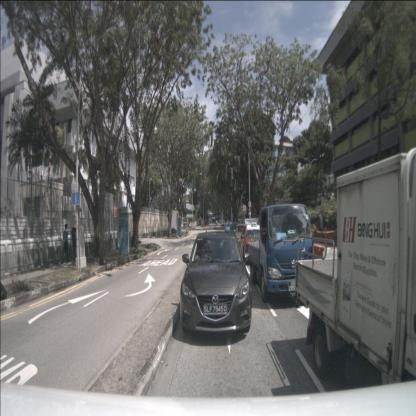human-pedestrian-adult: (59, 222, 69, 266), (71, 223, 79, 261)
movable_object-barrier: (323, 247, 337, 277), (314, 244, 324, 276), (325, 230, 338, 248), (316, 230, 325, 244)
vehicle-car: (179, 231, 252, 335), (240, 225, 267, 263), (235, 224, 248, 244), (230, 223, 242, 237), (225, 221, 231, 233), (222, 219, 226, 226)
vehicle-truck: (295, 145, 415, 415), (247, 204, 315, 302)
